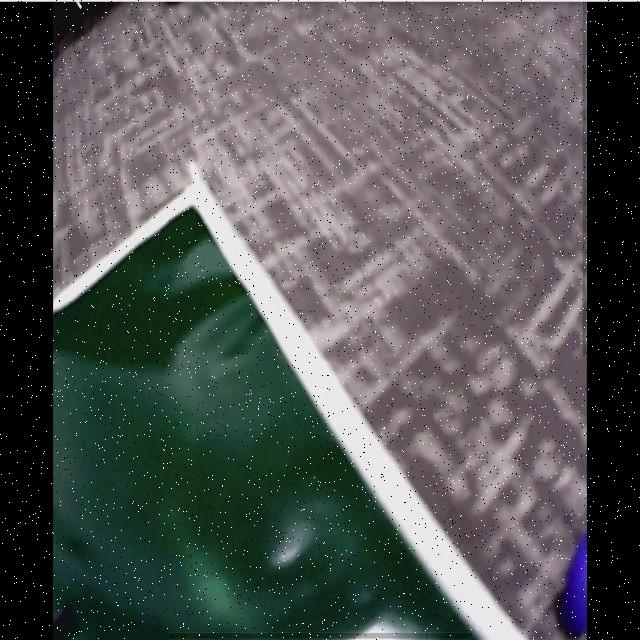ball: (567, 537, 589, 634)
